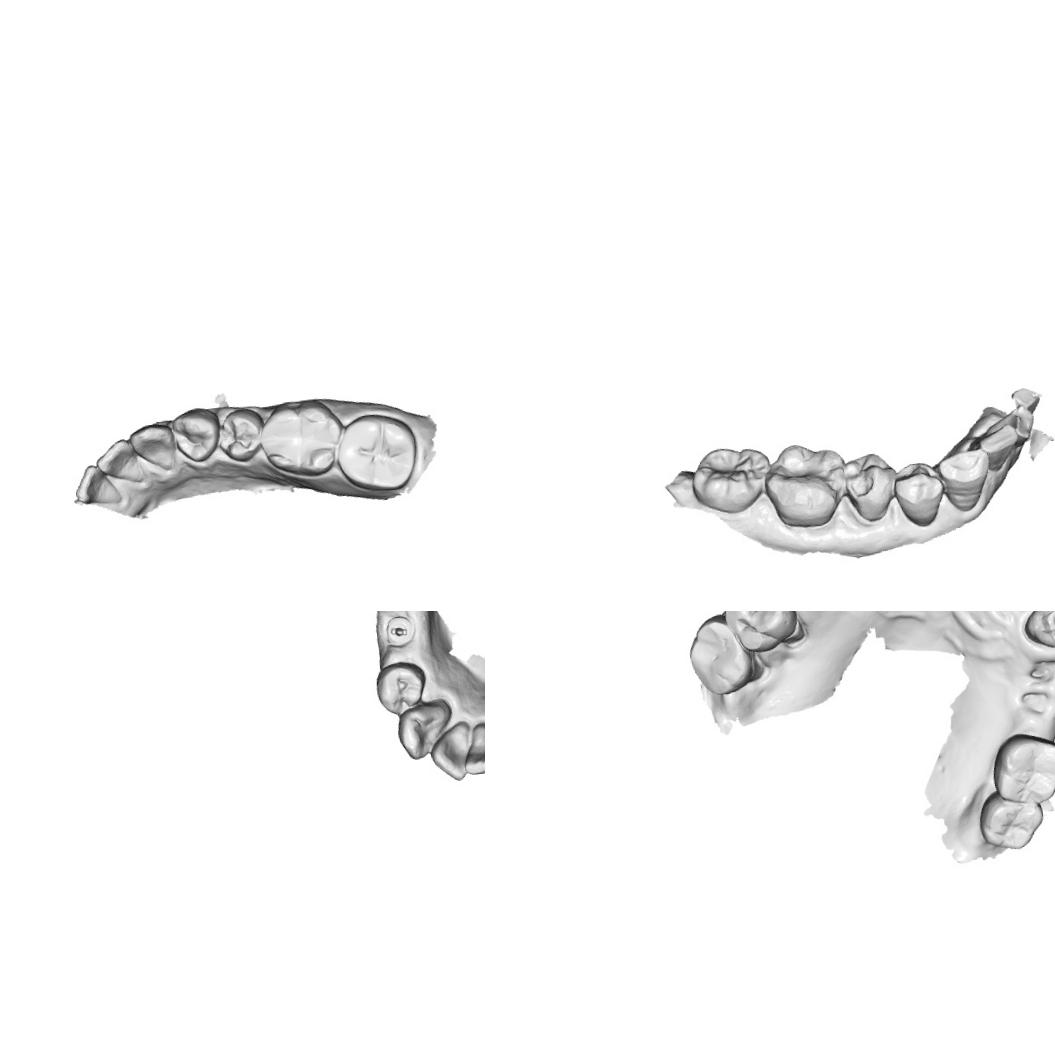canine: (392, 696, 458, 764), (935, 445, 996, 515), (125, 419, 178, 477), (1019, 611, 1055, 652)
implant_minus: (380, 611, 420, 651)
incisor: (426, 719, 481, 785), (92, 435, 149, 490), (973, 402, 1038, 450), (968, 422, 1024, 476), (71, 459, 126, 511), (458, 720, 485, 776)
molar: (759, 438, 852, 534), (330, 407, 424, 499), (255, 394, 350, 484), (684, 437, 775, 522), (682, 611, 758, 699), (986, 727, 1055, 809), (974, 784, 1048, 853), (718, 611, 802, 658)
premolar: (839, 448, 902, 529), (888, 457, 951, 530), (370, 658, 430, 720), (168, 402, 223, 467), (213, 405, 266, 465)
